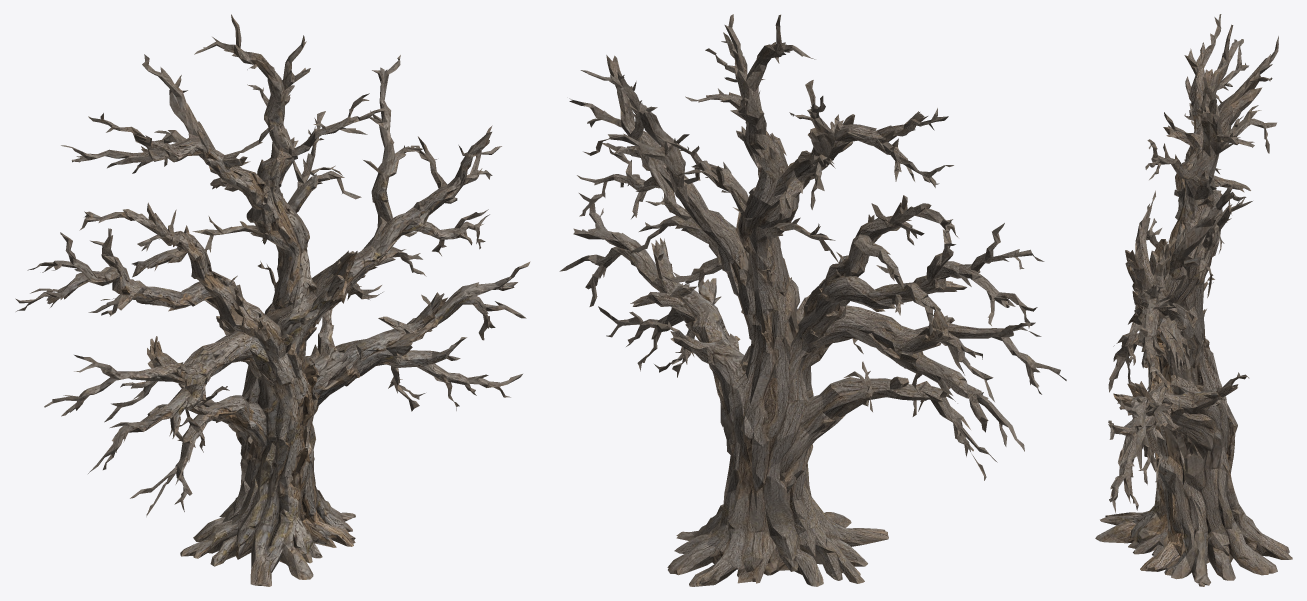
The model's file is tree-dead.glb.
3 views of the same model, side by side, from view 1: azimuth 30°, elevation 25°; view 2: azimuth 150°, elevation 25°; view 3: azimuth 270°, elevation 25° (orthographic). The views are drawn at different scales.
Visible parts, largest first — view 1: output_unwrapped; view 2: output_unwrapped; view 3: output_unwrapped.
Boxes of the visible parts, <box> form: output_unwrapped: <box>15,14,530,586</box>; output_unwrapped: <box>559,14,1066,586</box>; output_unwrapped: <box>1095,14,1292,586</box>.
Size of the model in its own units: 8.68 by 9 by 3.16.
1 material, 1 textured.
